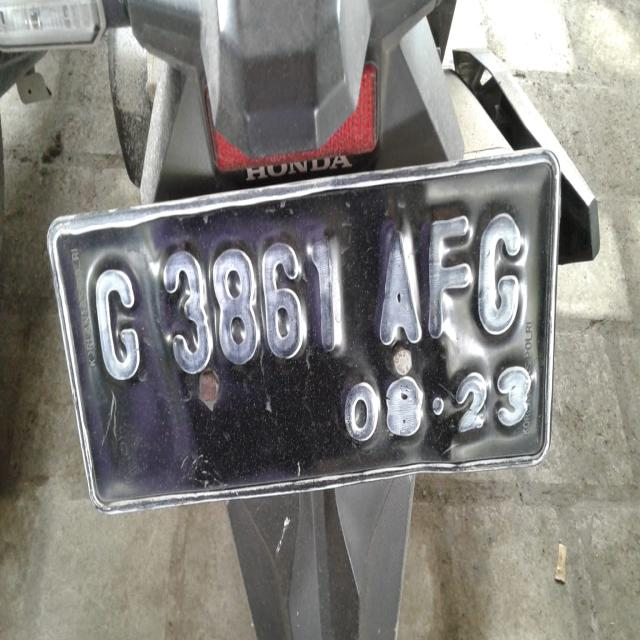plate: (48, 144, 562, 510)
